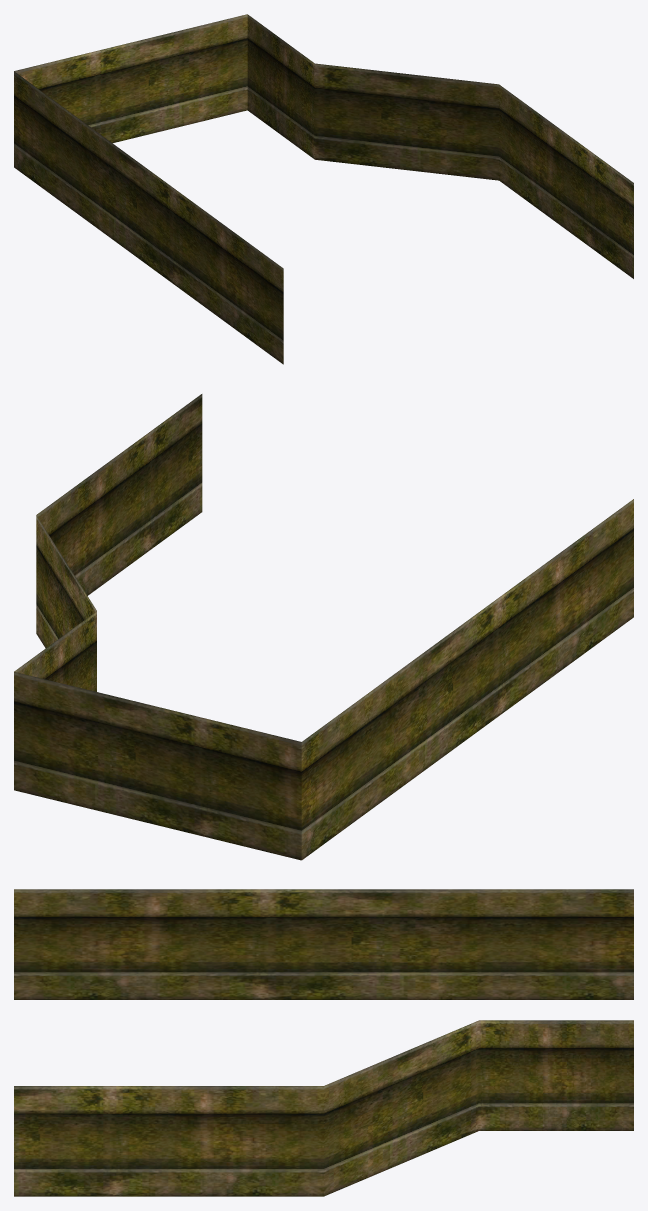
Rendered from OVERHILL_A_01_OBJECT123.fbx.
3 views of the same model, one above another, from view 1: azimuth 30°, elevation 25°; view 2: azimuth 150°, elevation 25°; view 3: azimuth 270°, elevation 25° (orthographic). The views are drawn at different scales.
Visible parts, largest first — view 1: OVERHILL_A_01_OBJECT123; view 2: OVERHILL_A_01_OBJECT123; view 3: OVERHILL_A_01_OBJECT123.
Part boxes in pixels (box(x1,y1,x2,y2)): OVERHILL_A_01_OBJECT123: box(14, 14, 633, 364); OVERHILL_A_01_OBJECT123: box(14, 394, 633, 860); OVERHILL_A_01_OBJECT123: box(14, 889, 633, 1196).
Size of the model in its own units: 30000 by 7876 by 40000.
Materials: 1 (1 with a texture image).
